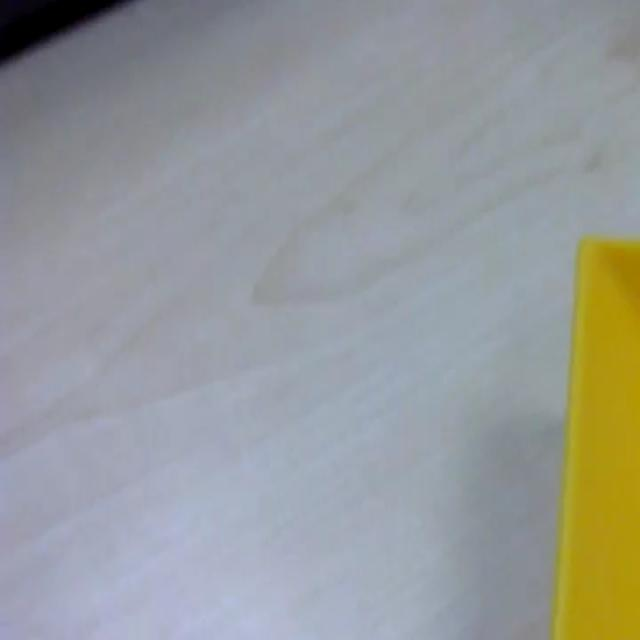yellow_block: (550, 232, 638, 637)
